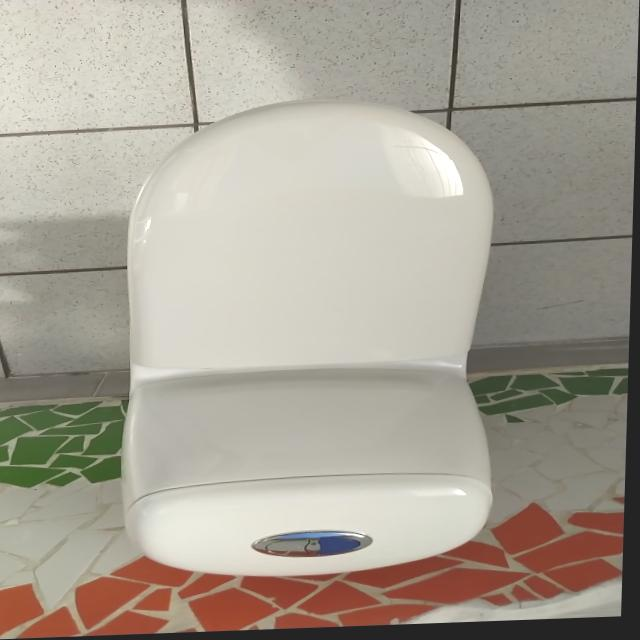toilet: (114, 88, 519, 590)
